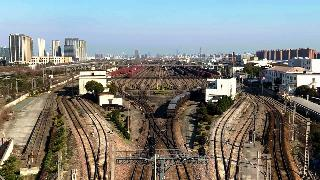train: (167, 87, 202, 117)
